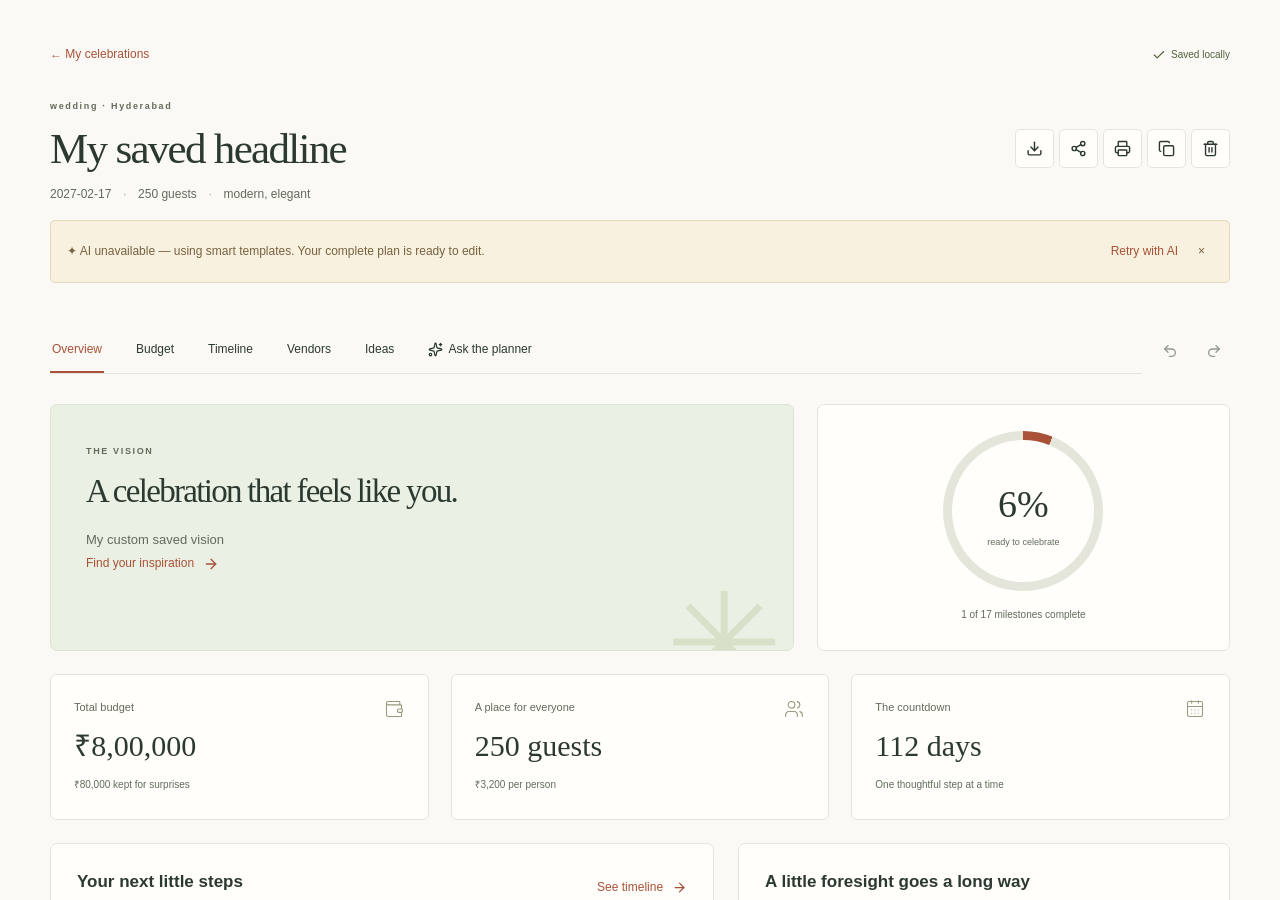
Test: rejects invalid later section patches without publishing earlier valid changes
Click the button "Retry with AI".
click(1144, 251)  # box [1111, 241, 1178, 262]
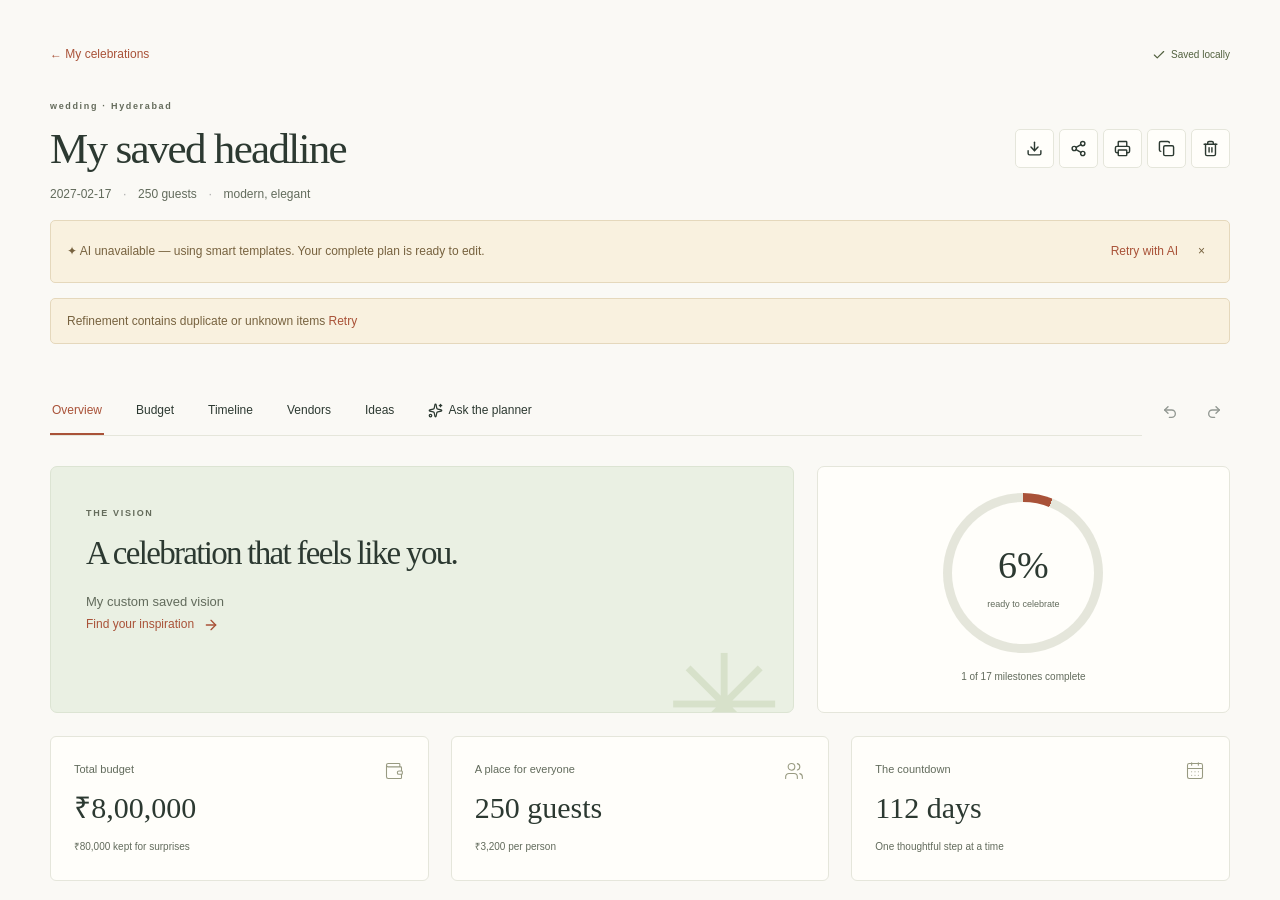
Expected: the message "Refinement contains duplicate or unknown items Retry" is shown, [50, 298, 1230, 344]
